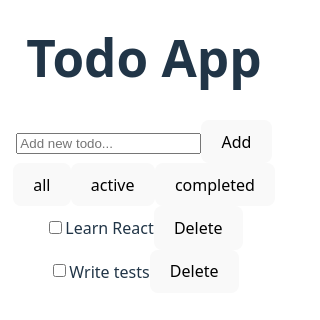
Test: Todo App E2E › Добавление новой задачи
Type "Действие 1" into the field with test id "new-todo-input" at (109, 144), box [16,133,201,154]
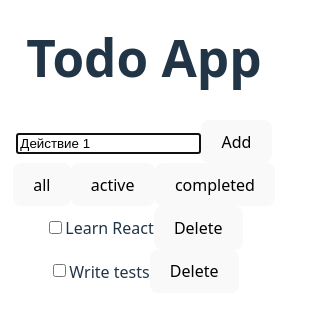
Click the button with test id "add-todo-button" at (236, 142), box [201,120,271,163]
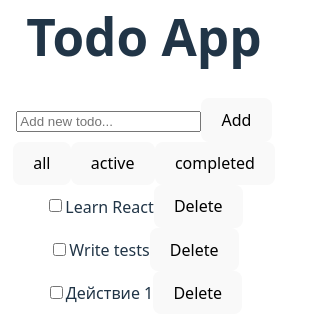
Check: the text "Действие 1" is shown, box [66,282,153,304]
